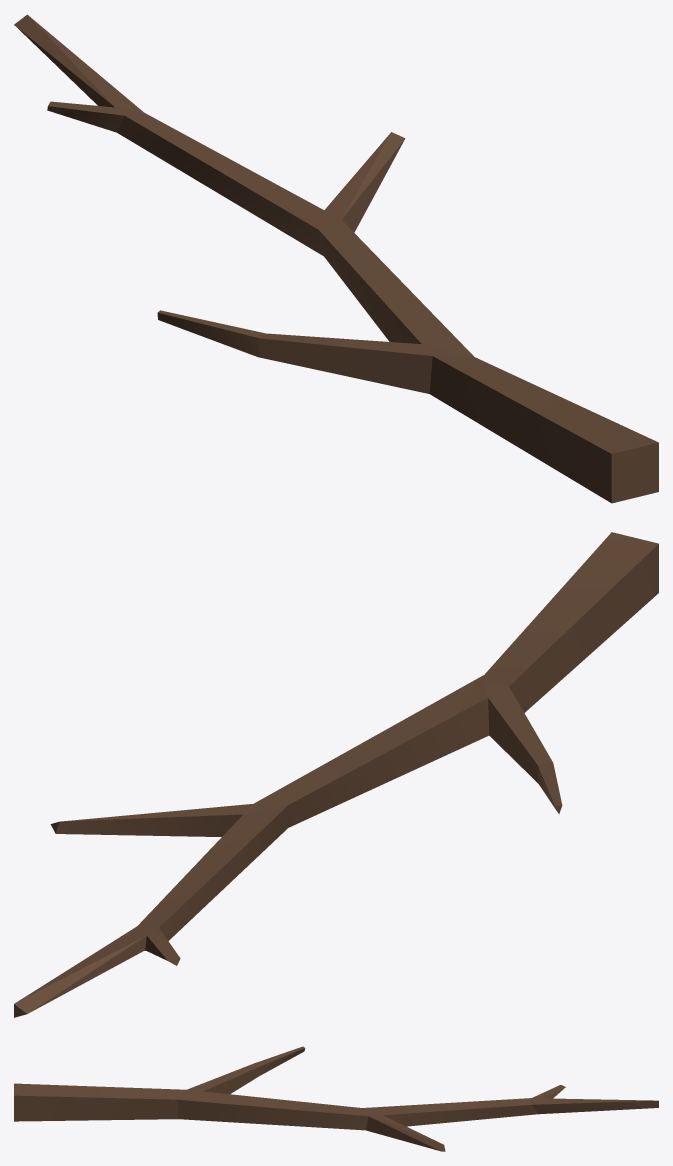
The model's file is BranchC.fbx.
3 views of the same model, one above another, from view 1: azimuth 30°, elevation 25°; view 2: azimuth 150°, elevation 25°; view 3: azimuth 270°, elevation 25° (orthographic). The views are drawn at different scales.
Parts seen in each view (by area): view 1: BranchC; view 2: BranchC; view 3: BranchC.
Part boxes in pixels (bbox=[...]): BranchC: bbox=[14, 14, 658, 503]; BranchC: bbox=[14, 532, 658, 1017]; BranchC: bbox=[14, 1046, 658, 1151].
Size of the model in its own units: 72.31 by 10.88 by 203.
